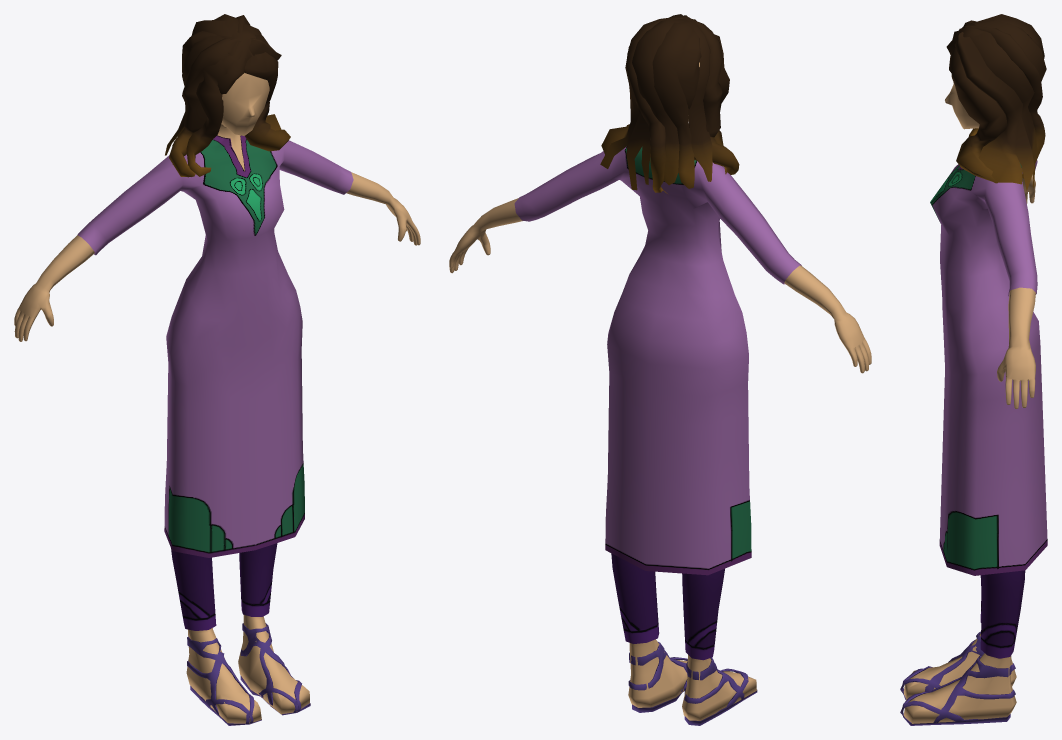
Rendered from Hunter_V3_Tpose.fbx.
3 views of the same model, side by side, from view 1: azimuth 30°, elevation 25°; view 2: azimuth 150°, elevation 25°; view 3: azimuth 270°, elevation 25° (orthographic). The views are drawn at different scales.
Visible parts, largest first — view 1: Dress2, Body_2, Hair, Pajama, sandal; view 2: Dress2, Hair, Body_2, Pajama, sandal; view 3: Dress2, Hair, Body_2, Pajama, sandal.
Part boxes in pixels (x1,y1,x2,y2): Dress2: (77, 135, 353, 557); Body_2: (14, 73, 420, 723); Hair: (165, 14, 290, 177); Pajama: (171, 543, 277, 630); sandal: (187, 623, 310, 725); Dress2: (514, 146, 801, 575); Hair: (600, 14, 739, 193); Body_2: (449, 62, 871, 720); Pajama: (611, 553, 724, 660); sandal: (628, 642, 757, 725); Dress2: (930, 160, 1047, 575); Hair: (946, 14, 1046, 191); Body_2: (903, 82, 1035, 723); Pajama: (980, 570, 1025, 658); sandal: (900, 631, 1015, 725).
Size of the model in its own units: 24.12 by 38.71 by 7.53.
